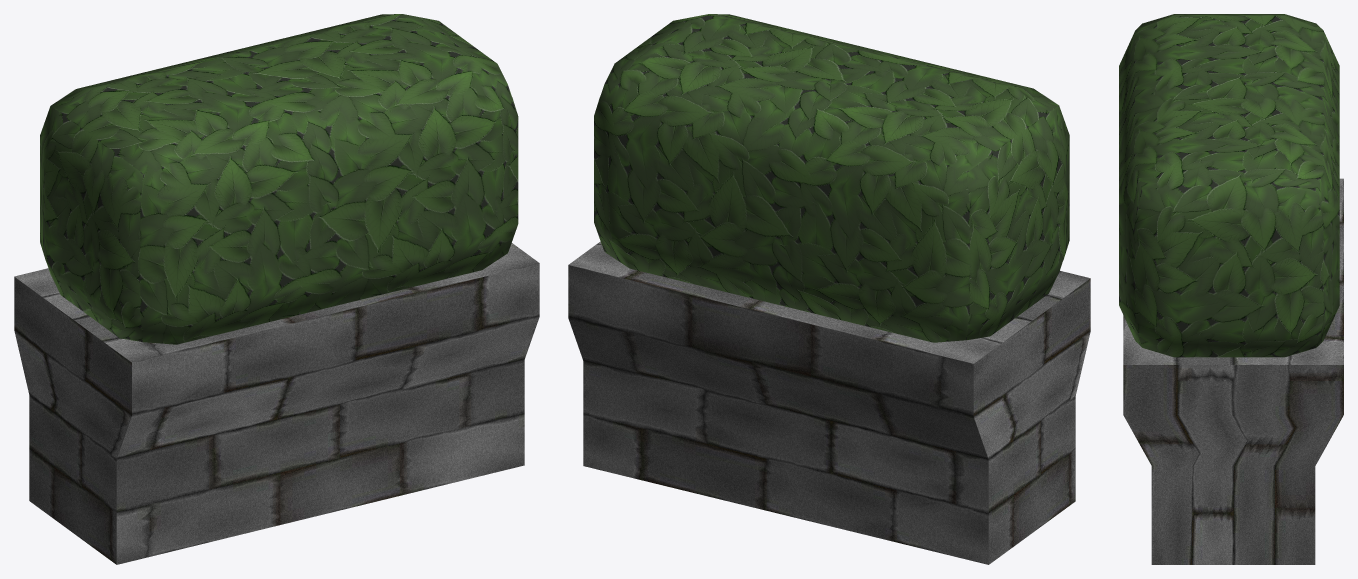
Rendered from Hedge1.fbx.
3 renders of one model, left to right at view 1: azimuth 30°, elevation 25°; view 2: azimuth 150°, elevation 25°; view 3: azimuth 270°, elevation 25°, orthographic. The views are drawn at different scales.
Visible parts, largest first — view 1: Leaves, LeavesVaseCement; view 2: Leaves, LeavesVaseCement; view 3: Leaves, LeavesVaseCement.
Boxes of the visible parts, x1,y1,x2,y2 form: Leaves: [40, 14, 518, 344]; LeavesVaseCement: [14, 243, 539, 564]; Leaves: [594, 14, 1069, 342]; LeavesVaseCement: [568, 241, 1090, 564]; Leaves: [1119, 14, 1339, 357]; LeavesVaseCement: [1123, 178, 1343, 564].
Bounding box in the file's own units: 2 × 1.93 × 1.02.
Materials: 2 (2 with a texture image).
